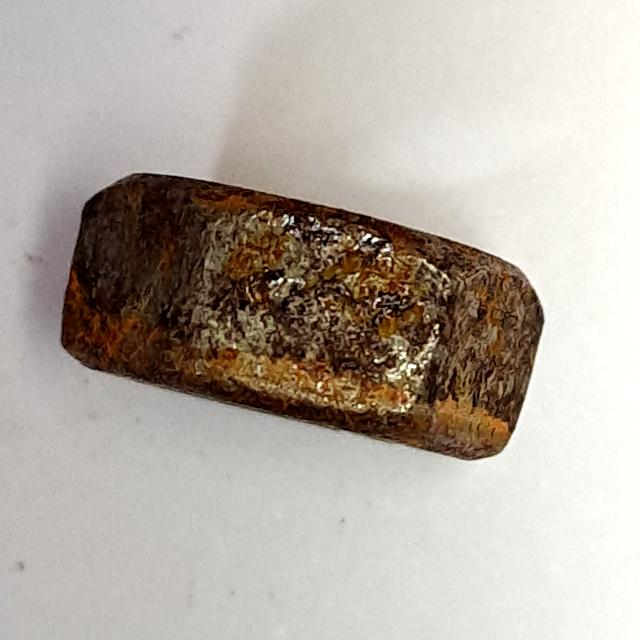Side_Rust: (42, 154, 552, 477)
